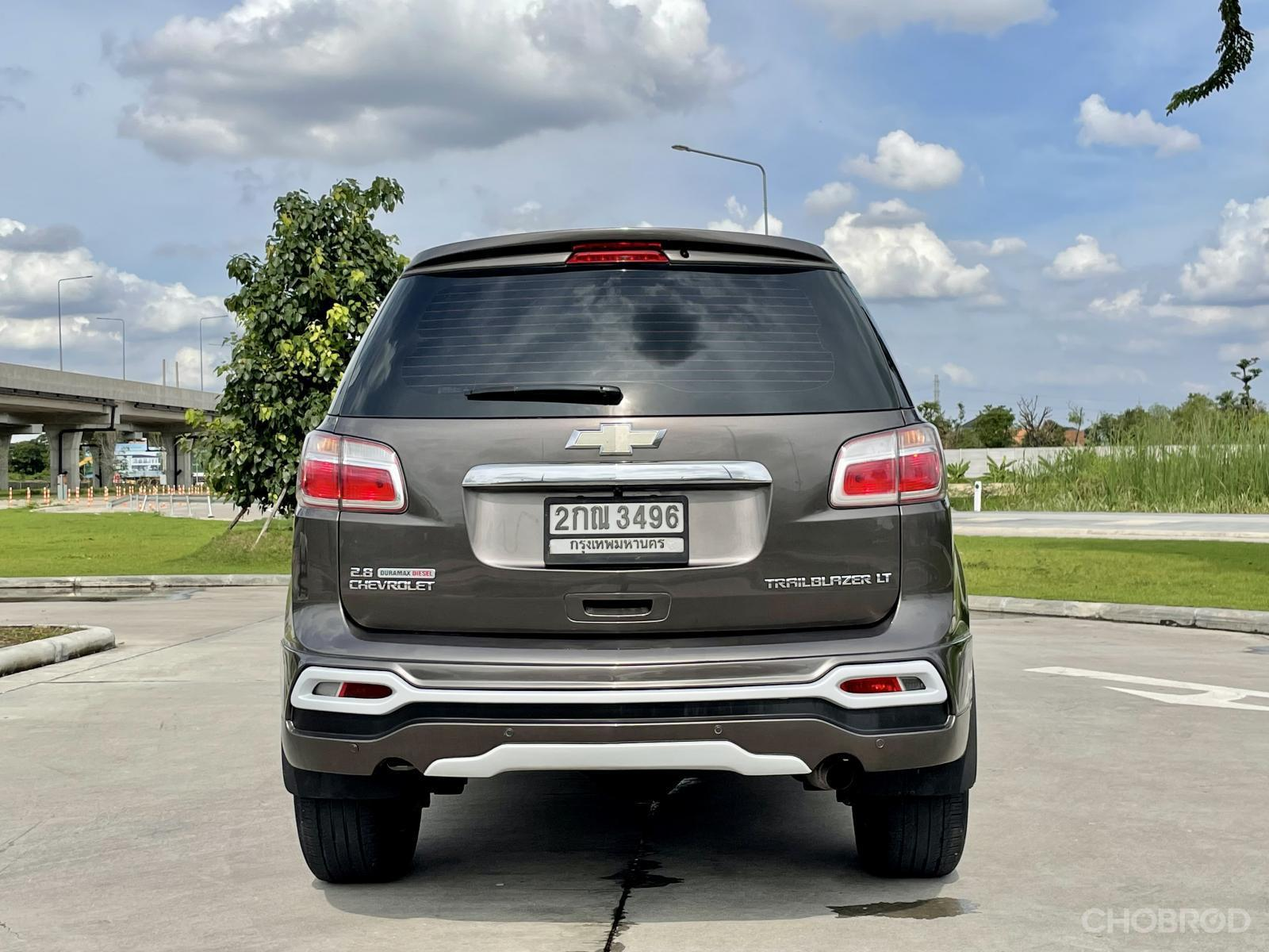license-plate: (540, 488, 693, 573)
